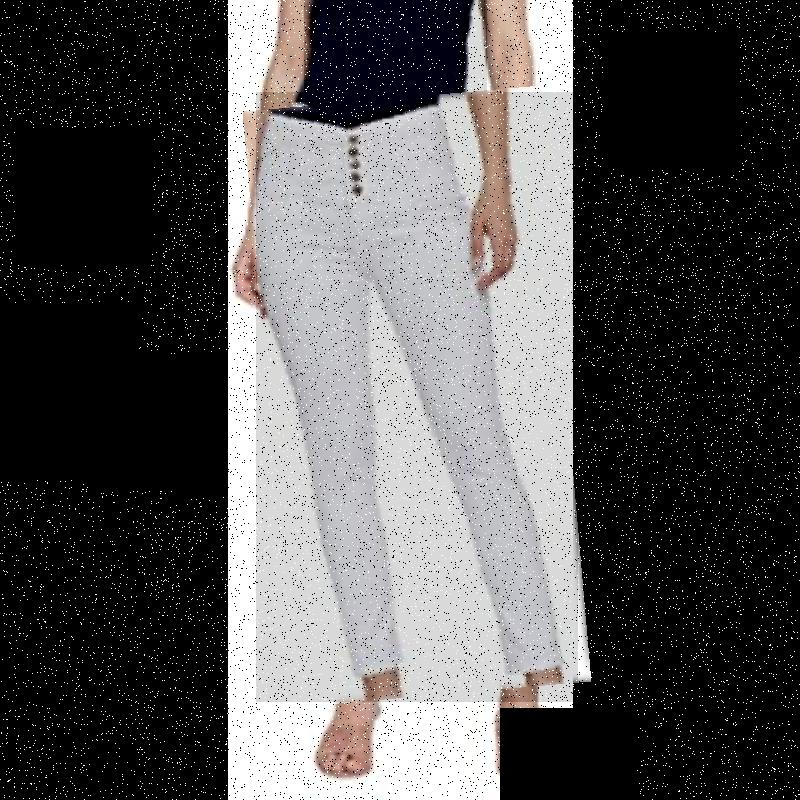Jeans: (256, 92, 578, 702)
Tshirt: (304, 0, 487, 121)
